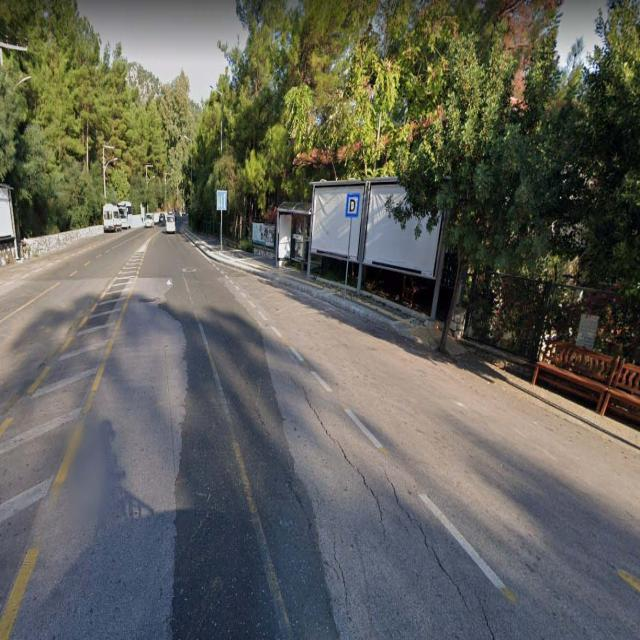durak: (348, 194, 360, 217)
